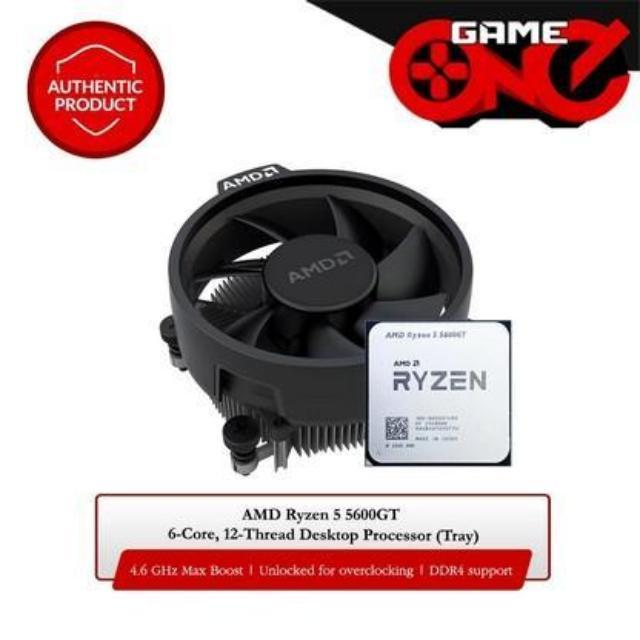CPU: (368, 317, 508, 469)
CPU_Fan: (164, 152, 467, 454)
